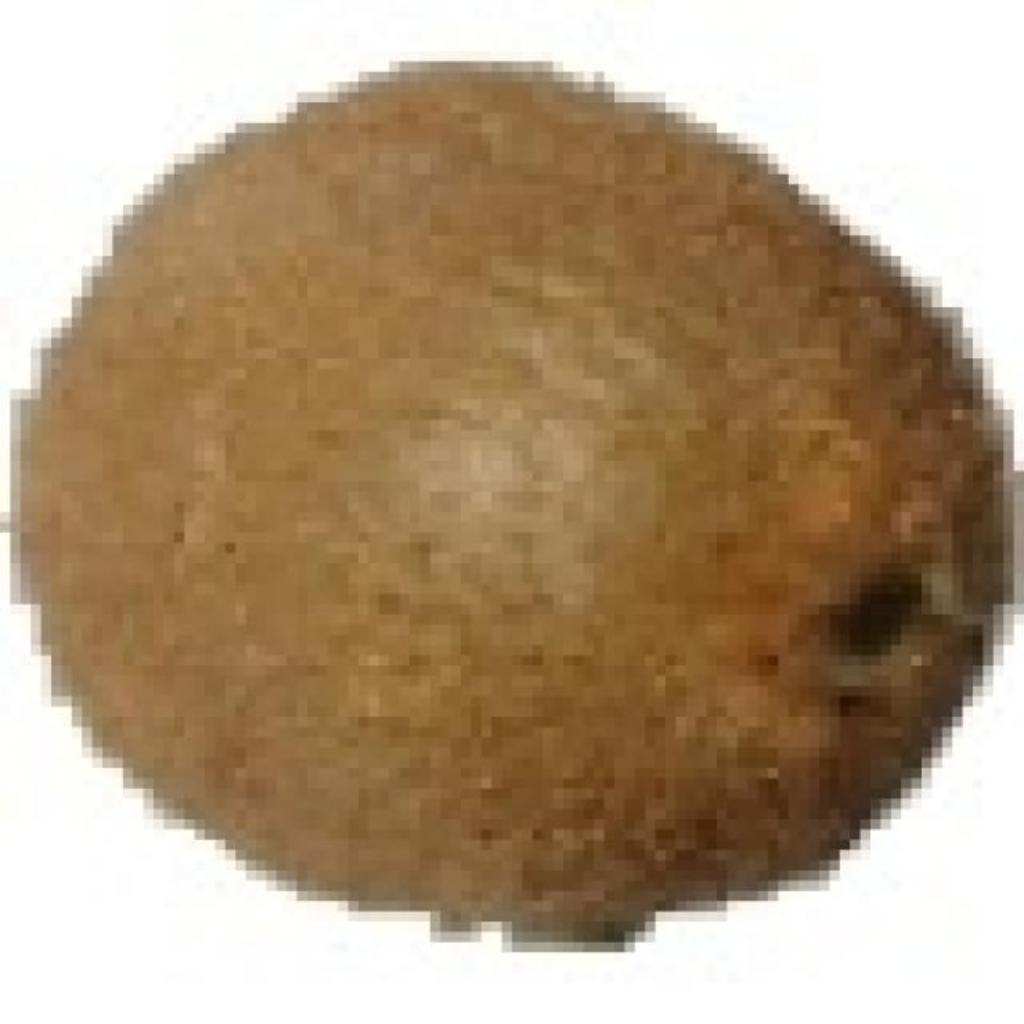kiwi: (10, 51, 983, 922)
